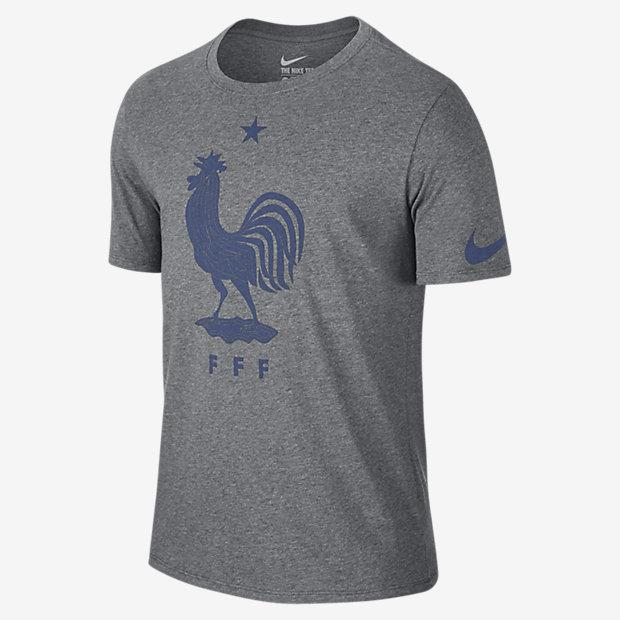teeshirt: (90, 15, 512, 620)
